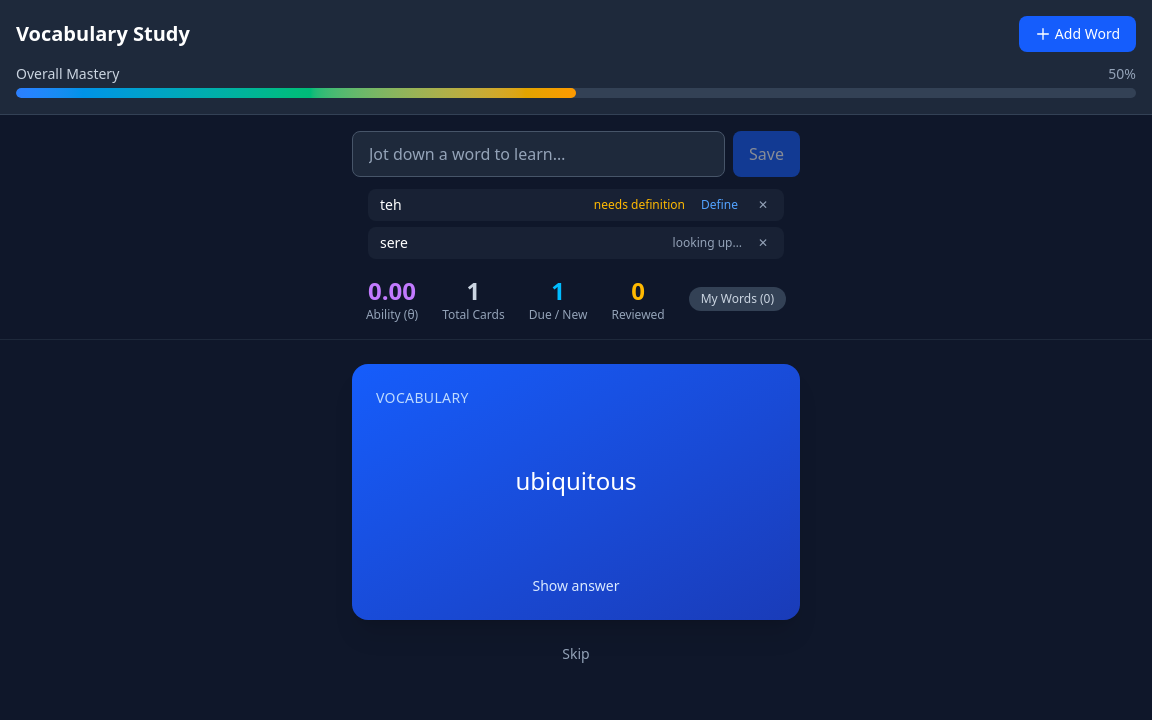
Test case: VocabularyStudy › will not rename a word being defined to another waiting word
Click the button with aria-label "Define teh": (719, 205) [697, 197, 742, 213]
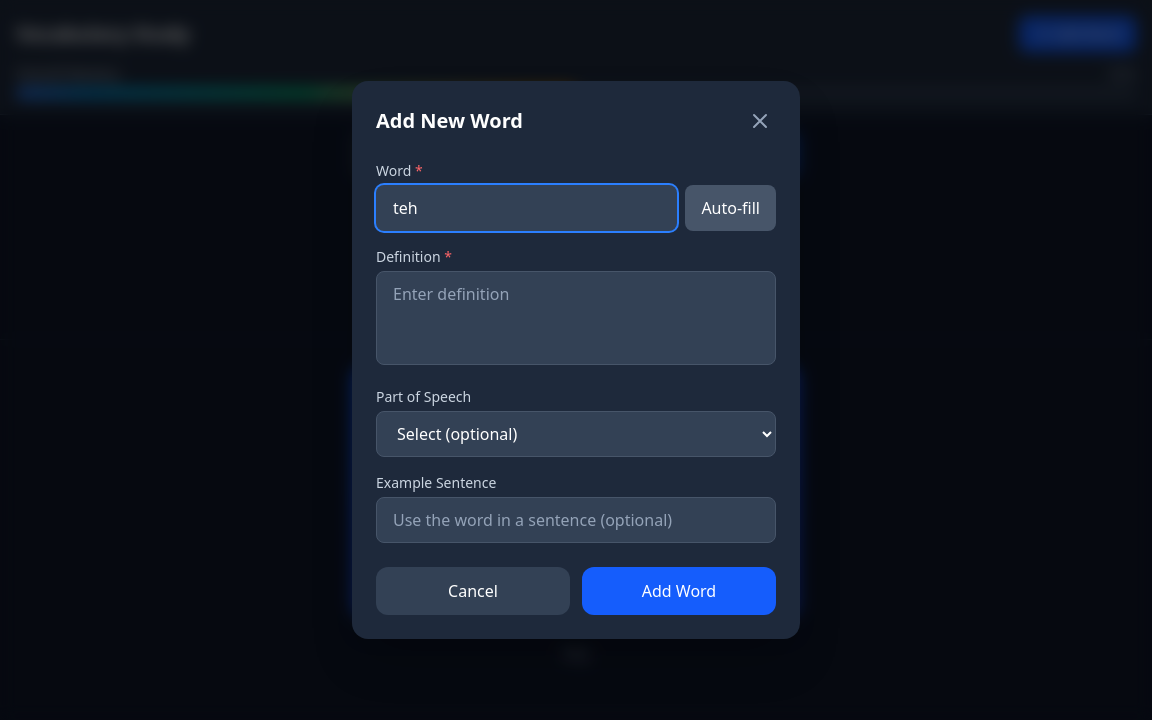
Replace the text in the field labelled "Word *" with "Sere": (527, 208) [376, 185, 677, 231]
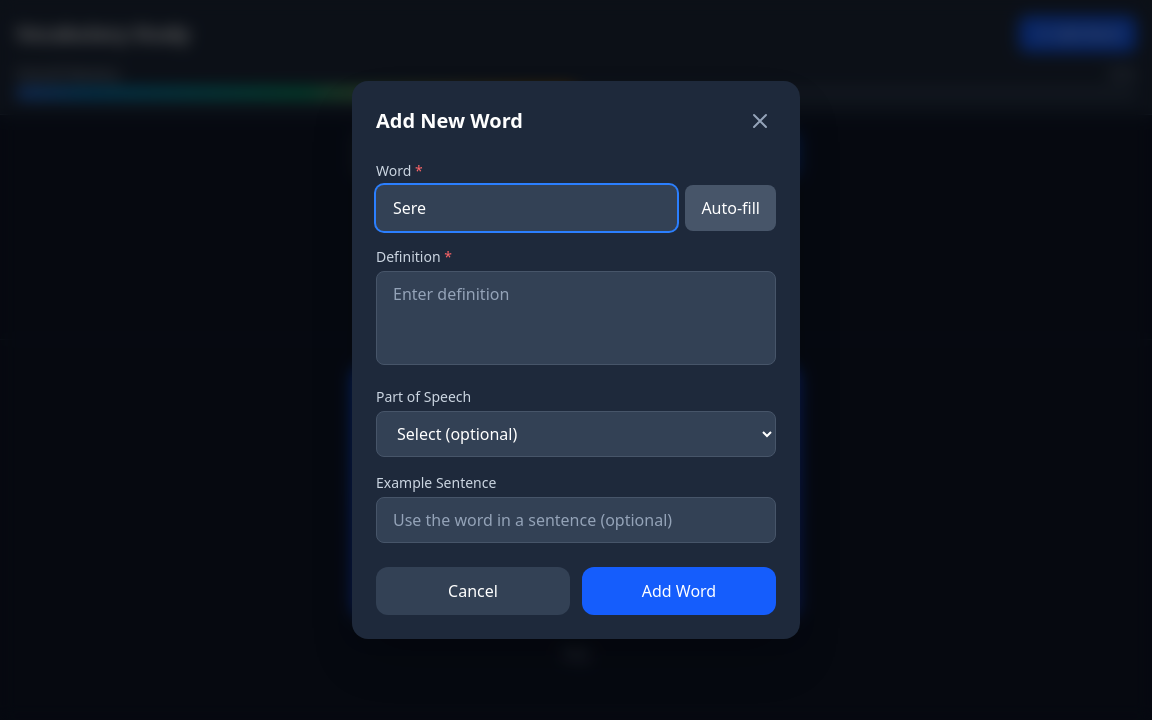
In the text box labelled "Definition *": (576, 318) [376, 271, 776, 365], type "dry"
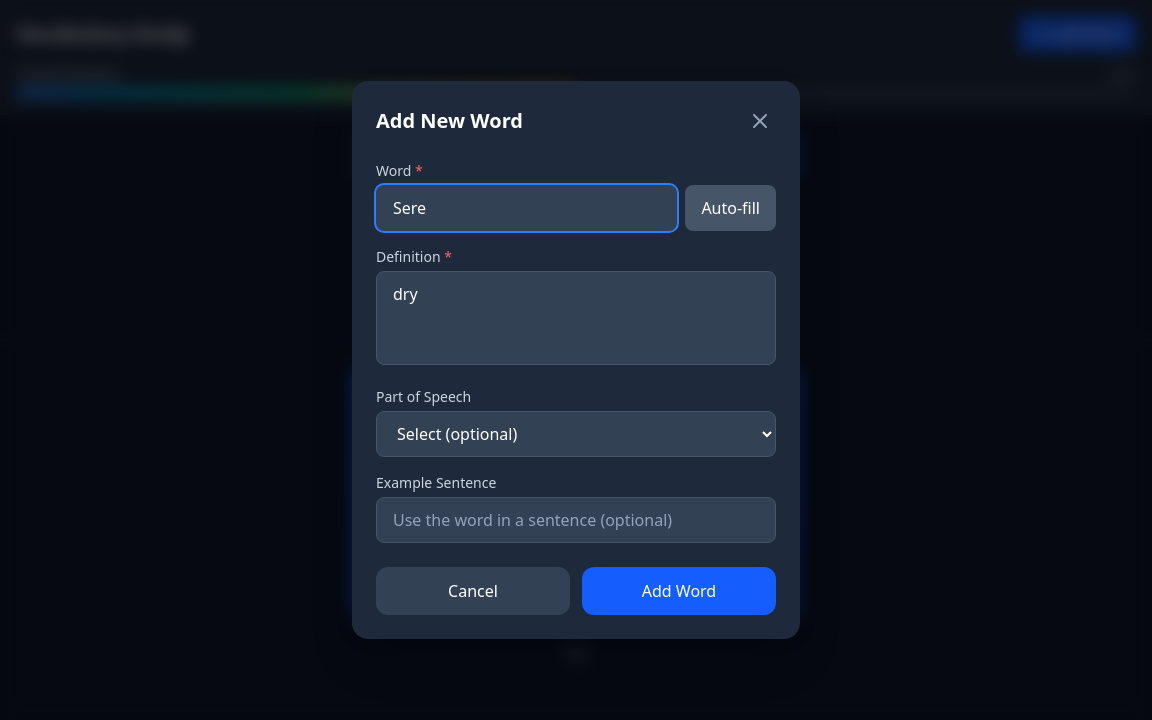
Click the button "Add Word": (679, 591) [582, 567, 776, 615]
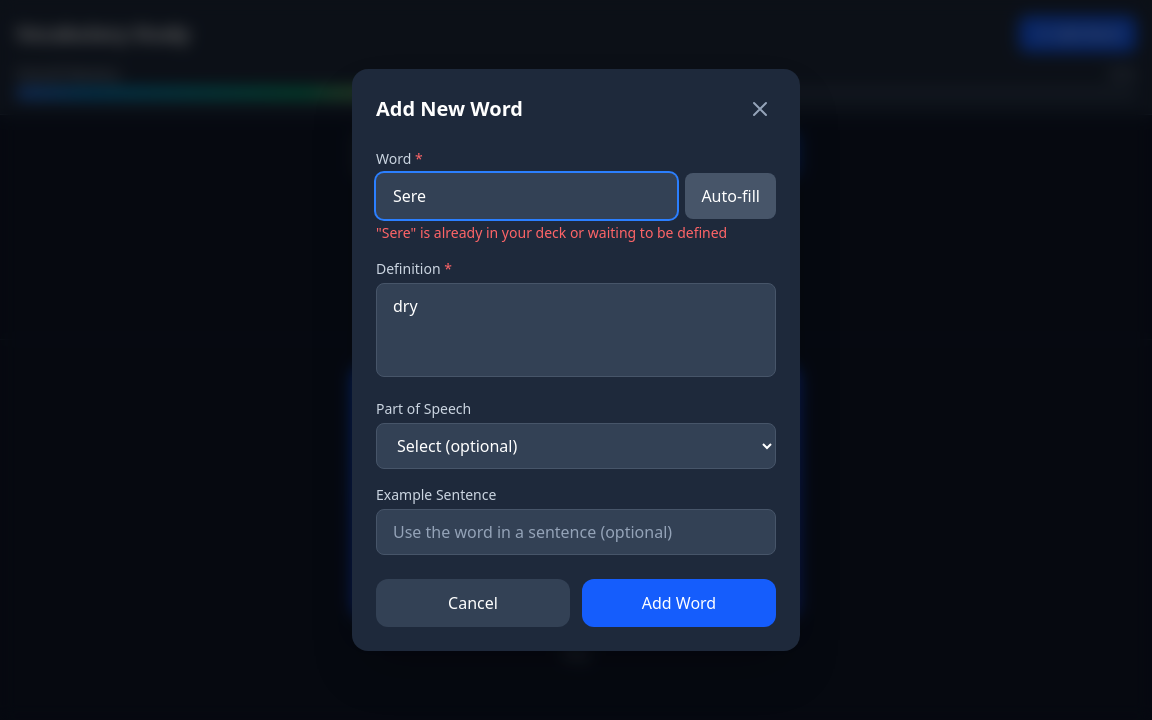
Now the text "\"Sere\" is already in your deck or waiting to be defined" is shown, box [376, 223, 776, 243]
